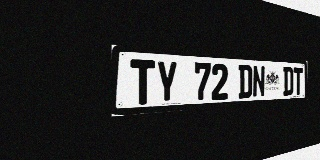2: (212, 63, 228, 100)
7: (193, 62, 211, 101)
D: (238, 65, 252, 99), (283, 67, 293, 96)
N: (252, 65, 265, 98)
T: (130, 59, 155, 105), (293, 67, 303, 95)
Y: (156, 60, 178, 104)
